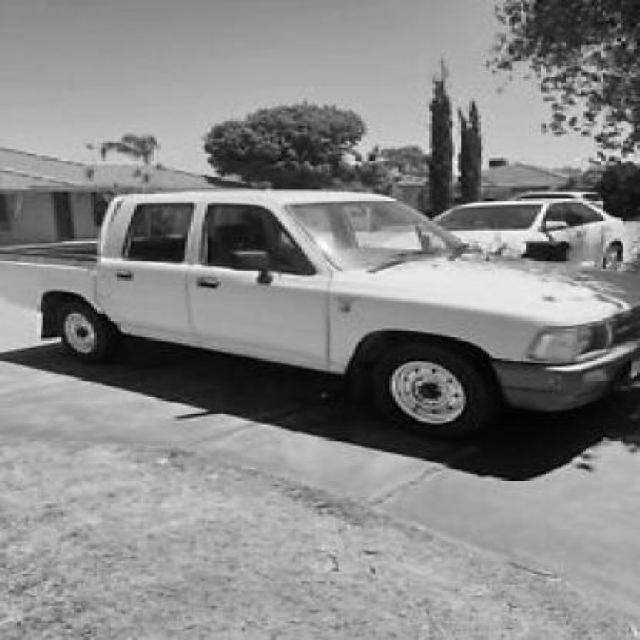Pickup: (0, 188, 640, 440)
